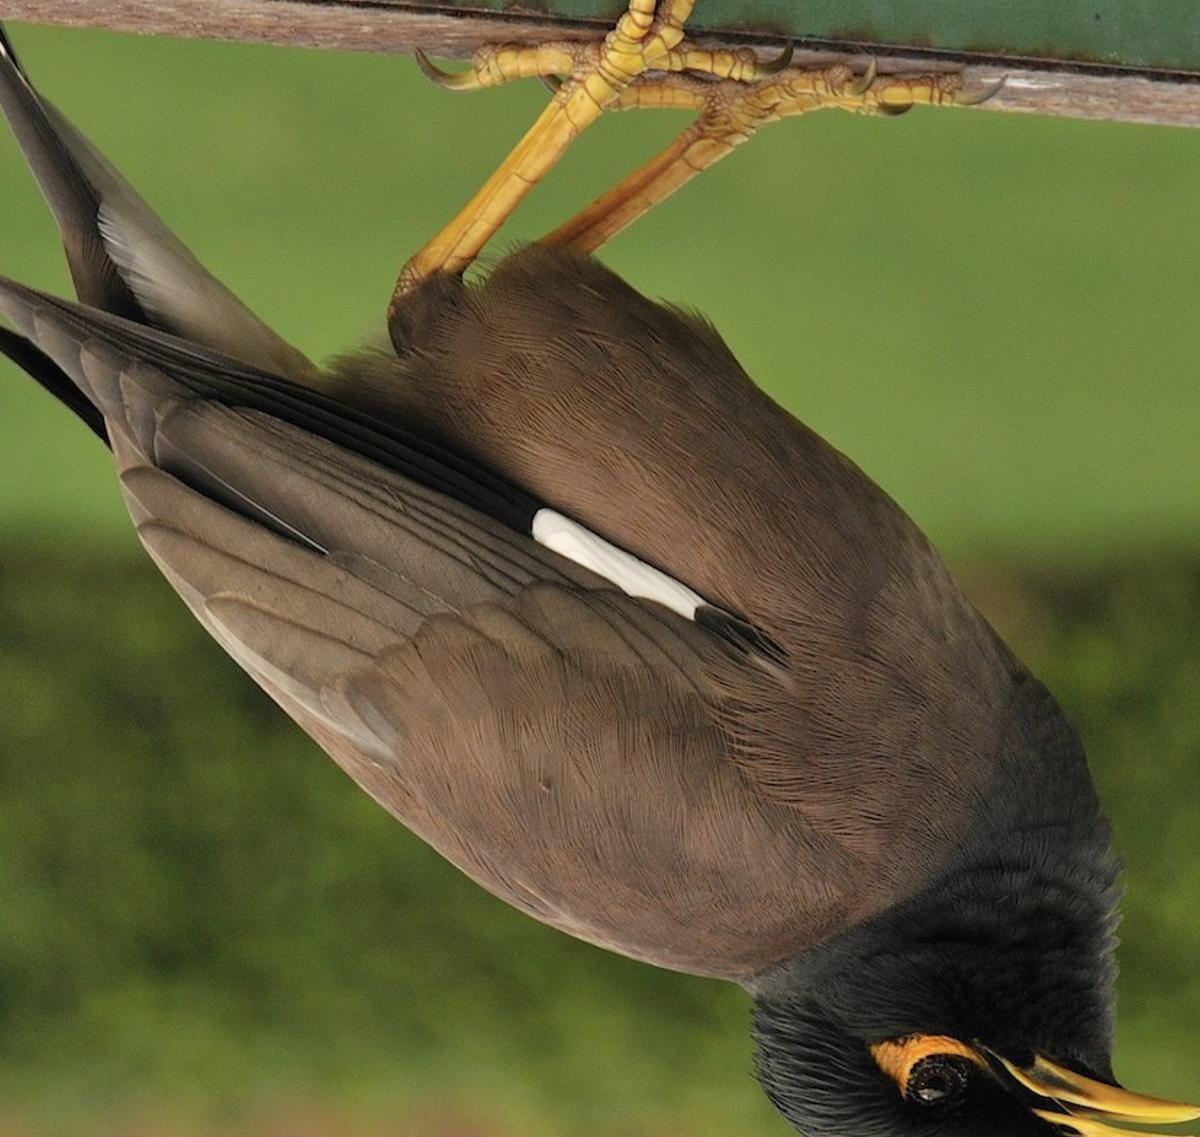myna: (64, 85, 1200, 1137)
